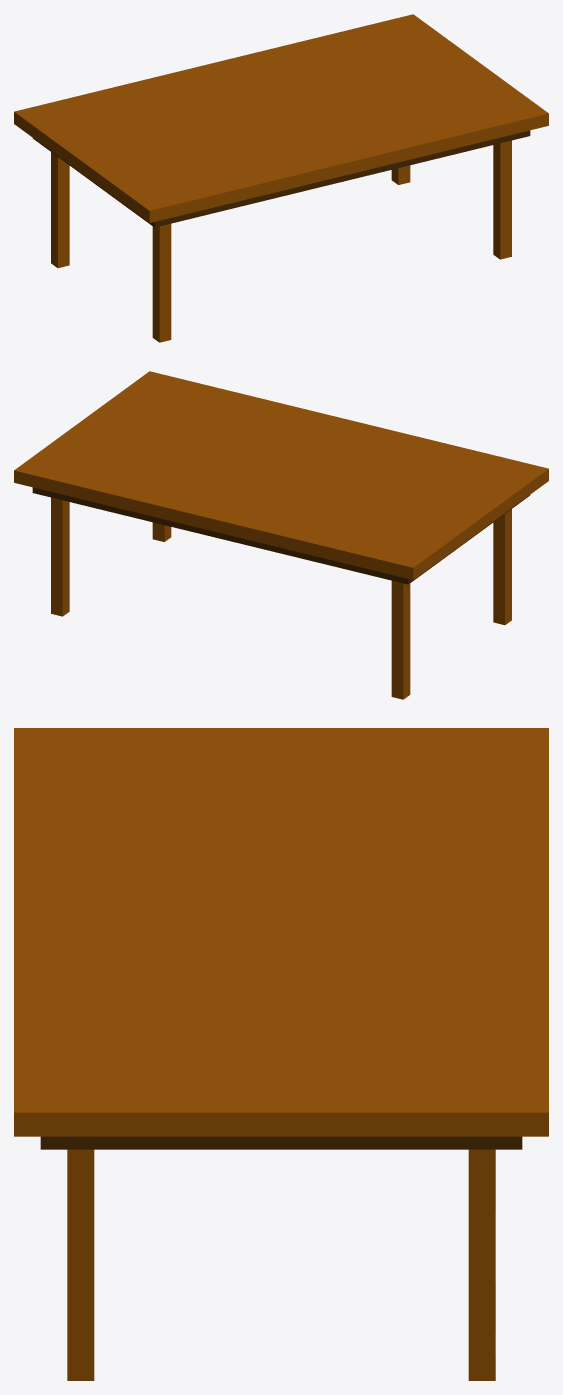
Rendered from Table.glb.
3 renders of one model, top to bottom at view 1: azimuth 30°, elevation 25°; view 2: azimuth 150°, elevation 25°; view 3: azimuth 270°, elevation 25°, orthographic. The views are drawn at different scales.
Visible parts, largest first — view 1: model; view 2: model; view 3: model.
Boxes of the visible parts, bbox=[...] form: model: bbox=[14, 14, 548, 342]; model: bbox=[14, 371, 548, 699]; model: bbox=[14, 728, 548, 1380].
Size of the model in its own units: 3.4 by 1.2 by 2.
Materials: 1 (1 with a texture image).
